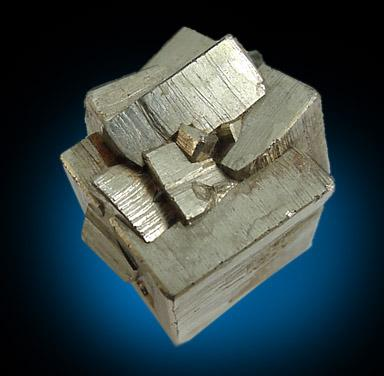pyrite: (59, 27, 335, 347)
